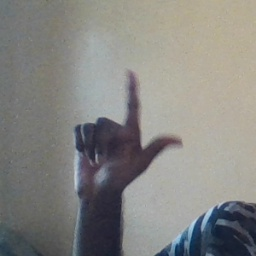L: (70, 69, 187, 193)
